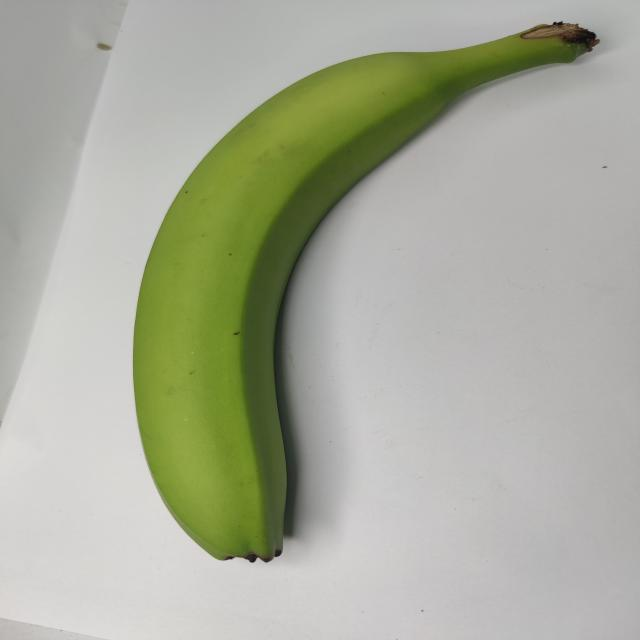raw: (90, 0, 624, 584)
